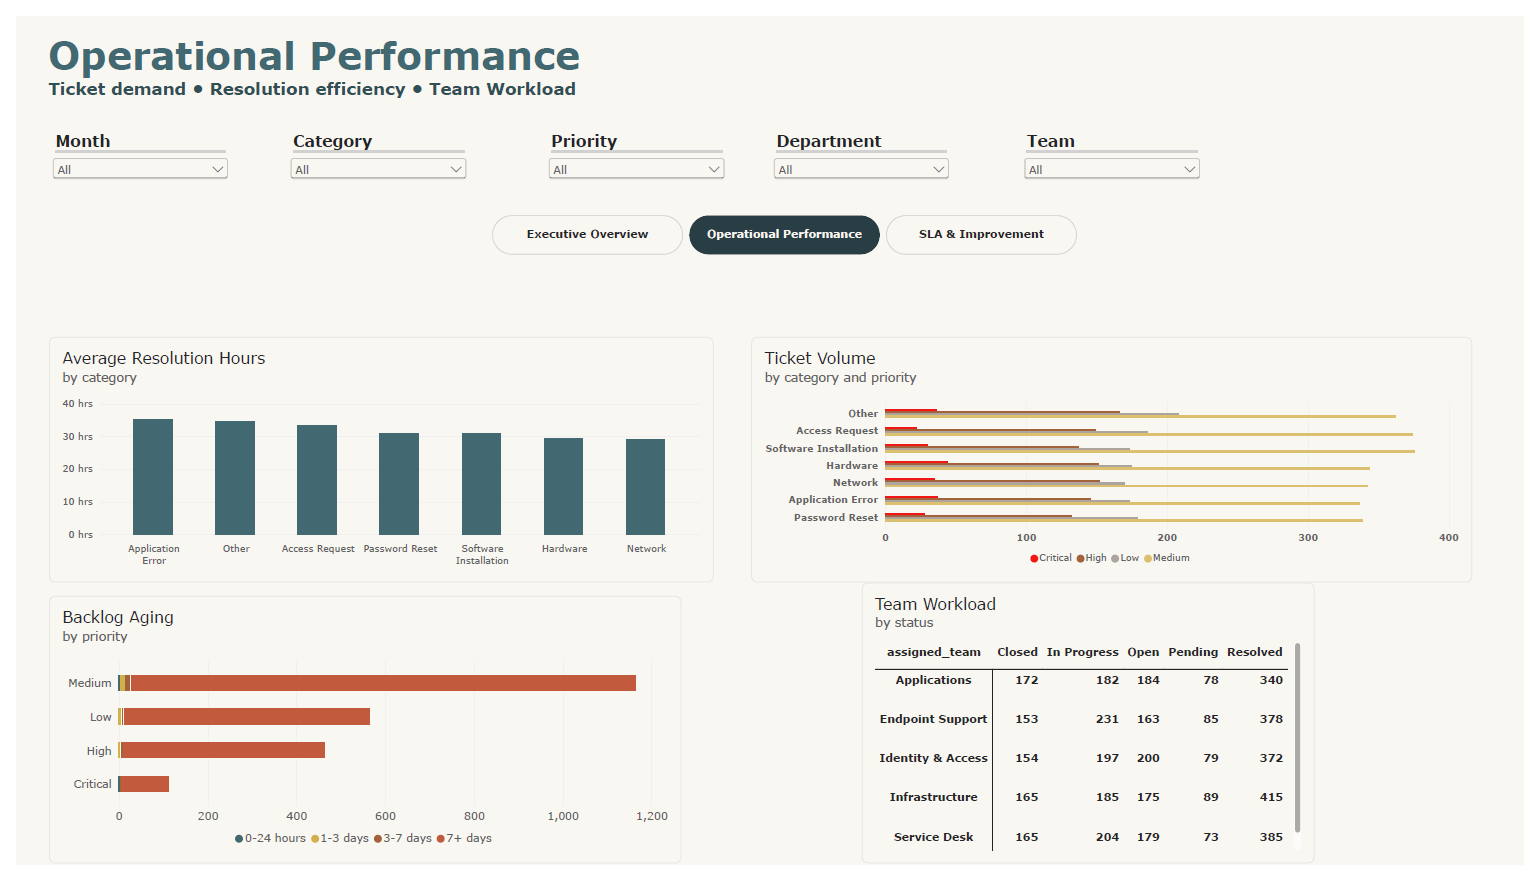

The page's visual inventory and layout, read from the dashboard file:
{"tool":"powerbi","page":{"name":"Operational Performance","canvas":[1920,1080],"ordinal":1},"visuals":[{"type":"textbox","box":[39.7,19.8,1879.4,158.7],"z":0},{"type":"clusteredBarChart","fields":{"Category":["service_desk vw_ticket_kpis.category"],"Series":["service_desk vw_ticket_kpis.priority"],"Y":["CountNonNull(service_desk vw_ticket_kpis.ticket_id)"]},"box":[935.7,408.2,919,312.7],"z":6000},{"type":"clusteredColumnChart","fields":{"Category":["service_desk vw_ticket_kpis.category"],"Y":["Avg(service_desk vw_ticket_kpis.resolution_hours)"]},"box":[40.6,408,847,312.6],"z":7000},{"type":"pivotTable","title":"Team Workload","fields":{"Columns":["service_desk vw_ticket_kpis.status"],"Rows":["service_desk vw_ticket_kpis.assigned_team"],"Values":["CountNonNull(service_desk vw_ticket_kpis.ticket_id)"]},"box":[1076.6,720.9,577.7,358.1],"z":8000},{"type":"barChart","title":"Backlog Aging","fields":{"Category":["service_desk vw_ticket_kpis.priority"],"Series":["service_desk vw_ticket_kpis.Backlog Age Bucket"],"Y":["CountNonNull(service_desk vw_ticket_kpis.ticket_id)"]},"box":[40.6,737.6,806.8,341.4],"z":9000},{"type":"slicer","fields":{"Values":["service_desk vw_ticket_kpis.created_at.Variation.Date Hierarchy.Month"]},"box":[40.6,145.6,233.8,107.4],"z":9001},{"type":"slicer","fields":{"Values":["service_desk vw_ticket_kpis.category"]},"box":[343.7,145.6,233.8,107.4],"z":9002},{"type":"slicer","fields":{"Values":["service_desk vw_ticket_kpis.priority"]},"box":[673.2,145.6,233.8,107.4],"z":9003},{"type":"slicer","fields":{"Values":["service_desk vw_ticket_kpis.department"]},"box":[959.6,145.6,233.8,107.4],"z":9004},{"type":"slicer","fields":{"Values":["service_desk vw_ticket_kpis.assigned_team"]},"box":[1279.5,145.6,233.8,107.4],"z":9005},{"type":"pageNavigator","box":[606.3,253,744.8,50.1],"z":9006}]}

Visuals, with their boxes in screenshot pixels (x1, y1, x2, y2), scaled from the page's 1920x1080 canvas onto the 1539x881 screenshot:
textbox: 32,16,1538,146
clusteredBarChart - service_desk vw_ticket_kpis.category x service_desk vw_ticket_kpis.priority: 750,333,1487,588
clusteredColumnChart - service_desk vw_ticket_kpis.category x Avg(service_desk vw_ticket_kpis.resolution_hours): 33,333,711,588
"Team Workload" pivotTable: 863,588,1326,880
"Backlog Aging" barChart: 33,602,679,880
slicer - service_desk vw_ticket_kpis.created_at.Variation.Date Hierarchy.Month: 33,119,220,206
slicer - service_desk vw_ticket_kpis.category: 275,119,463,206
slicer - service_desk vw_ticket_kpis.priority: 540,119,727,206
slicer - service_desk vw_ticket_kpis.department: 769,119,957,206
slicer - service_desk vw_ticket_kpis.assigned_team: 1026,119,1213,206
pageNavigator: 486,206,1083,247
